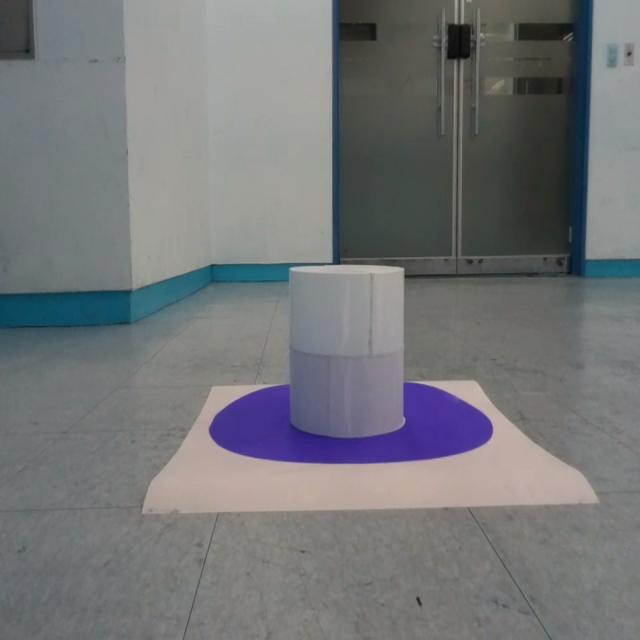cylinder: (288, 264, 406, 439)
